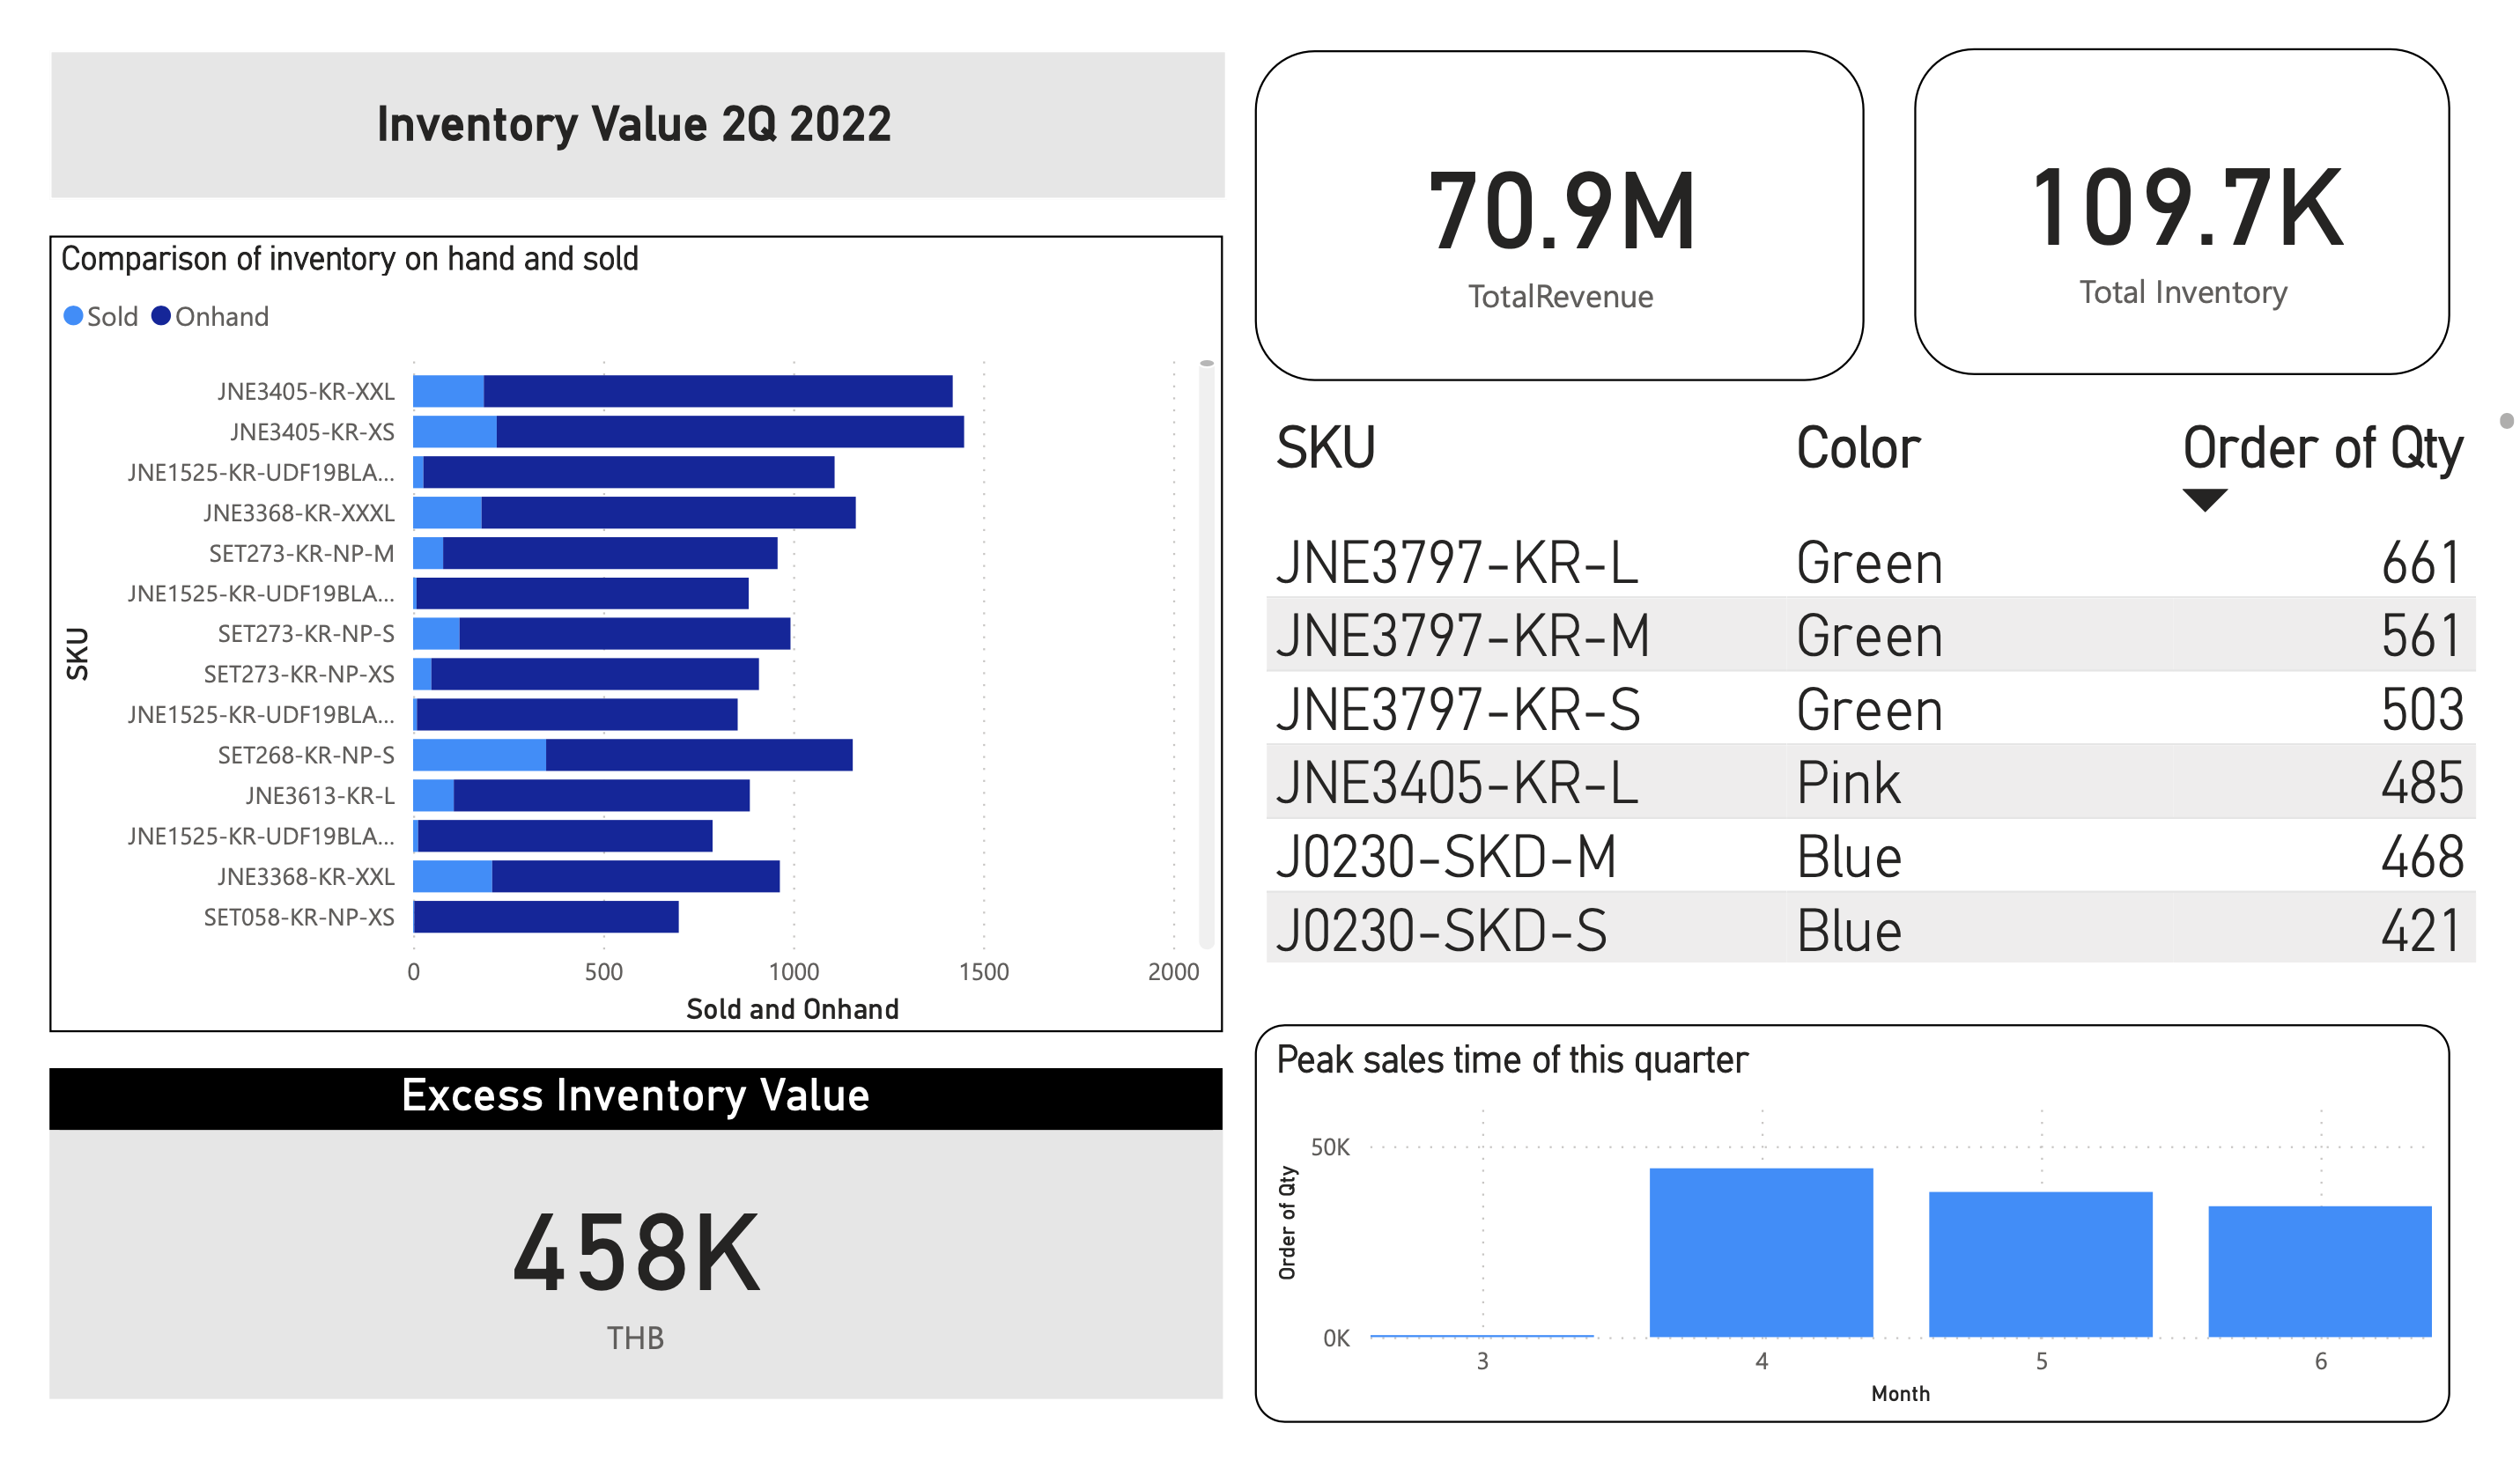

The page's visual inventory and layout, read from the dashboard file:
{"tool":"powerbi","page":{"name":"Page 1","canvas":[1280,720],"ordinal":0},"visuals":[{"type":"textbox","box":[34.1,15.9,590.9,75],"z":0},{"type":"barChart","title":" Comparison of inventory on hand and sold","fields":{"Category":["best_revenue.SKU"],"Y":["Sum(best_revenue.sum_Qty_)","Sum(best_revenue.Stock)"]},"box":[34.1,109.1,588.6,400],"z":1000},{"type":"card","title":"Excess Inventory Value","fields":{"Values":["Sum(Inventory_value (2).Inventory_value)"]},"box":[34.1,527.3,588.6,165.9],"z":2000},{"type":"card","title":"To","fields":{"Values":["Sum(best_revenue.TotalRevenue)"]},"box":[638.6,15.9,306.8,165.9],"z":3000},{"type":"card","title":"To","fields":{"Values":["Sum(best_revenue.sum_Qty_)"]},"box":[970.3,15.5,268.4,163.9],"z":4000},{"type":"tableEx","fields":{"Values":["best_revenue.SKU","best_revenue.Color","Sum(best_revenue.sum_Qty_)"]},"box":[638.7,192.3,638.7,286.5],"z":5000},{"type":"clusteredColumnChart","title":"Peak sales time of this quarter","fields":{"Category":["monthly_sales.order_month"],"Y":["Sum(monthly_sales.sum_Qty_)"]},"box":[638.6,504.5,600,200],"z":6000}]}

Visuals, with their boxes on the page's 1280x720 design canvas (x1, y1, x2, y2). These are canvas units, not pixel positions in the 2520x1475 screenshot, which may show the page scaled, cropped or inside an application window:
textbox: bbox(34, 16, 625, 91)
" Comparison of inventory on hand and sold" barChart: bbox(34, 109, 623, 509)
"Excess Inventory Value" card: bbox(34, 527, 623, 693)
"To" card: bbox(639, 16, 945, 182)
"To" card: bbox(970, 16, 1239, 179)
tableEx - best_revenue.SKU x best_revenue.Color: bbox(639, 192, 1277, 479)
"Peak sales time of this quarter" clusteredColumnChart: bbox(639, 504, 1239, 704)
